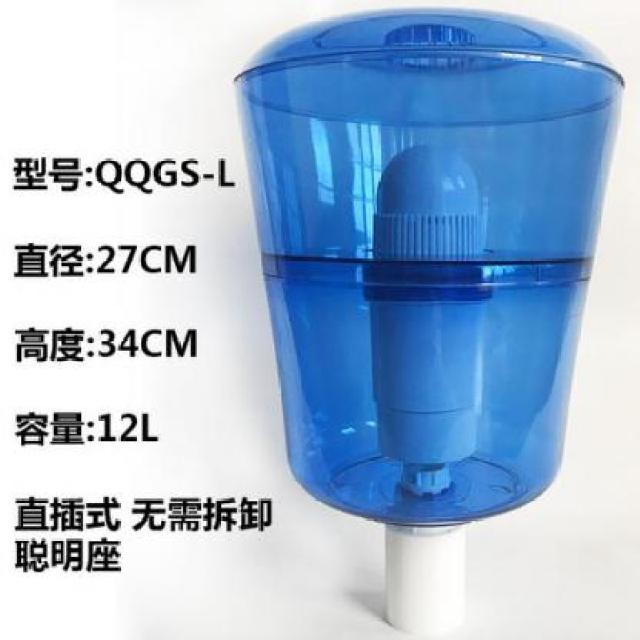coolerbottle: (228, 6, 629, 536)
